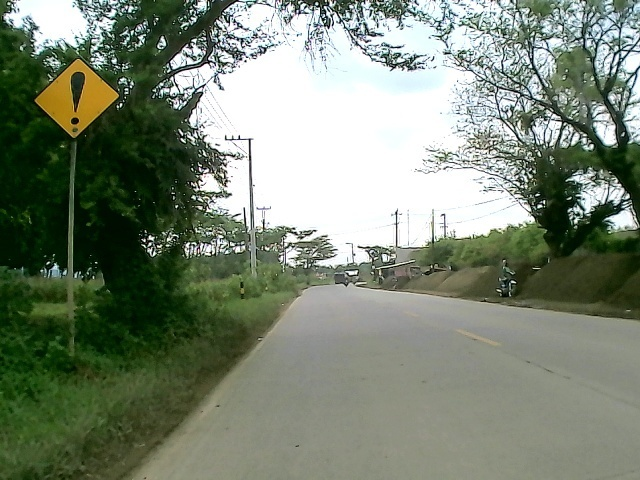Hati-hati: (30, 54, 121, 141)
